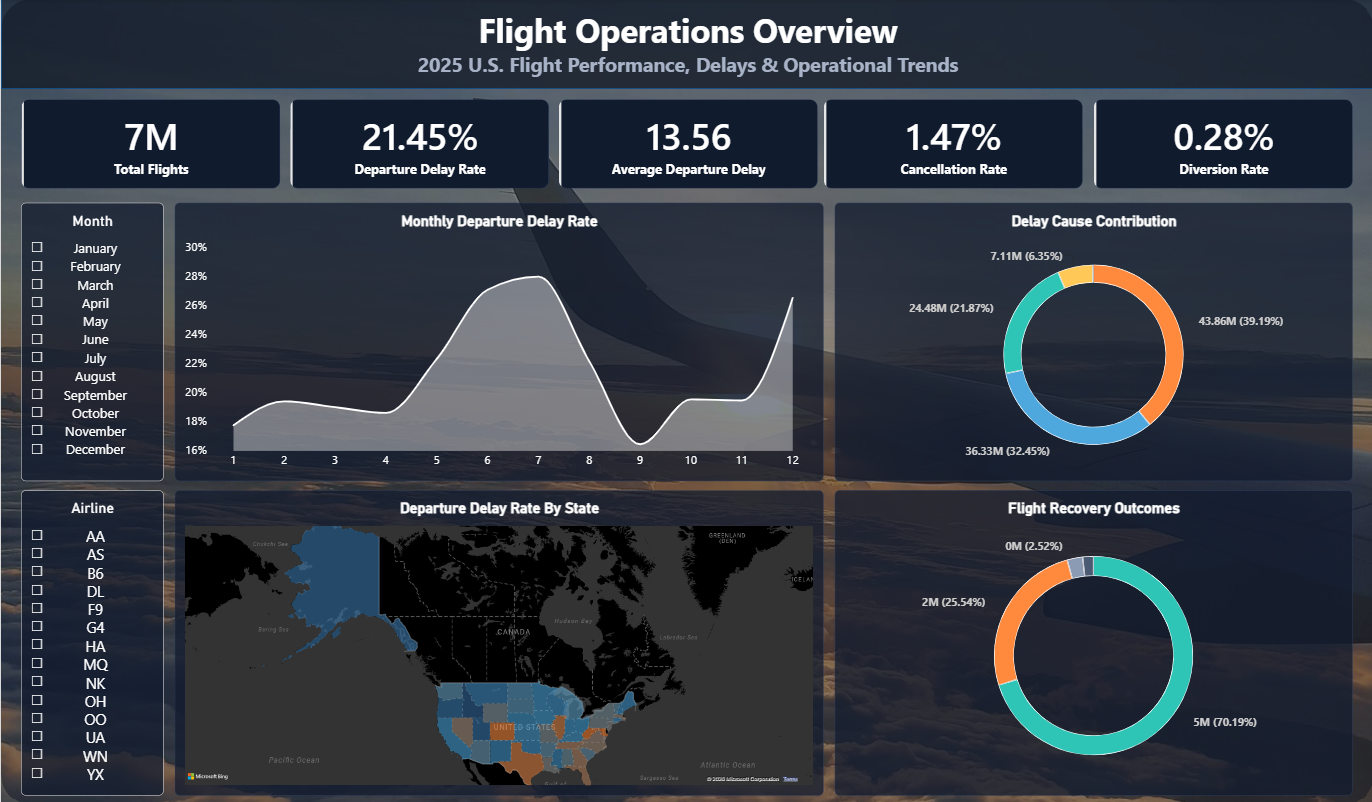

The page's visual inventory and layout, read from the dashboard file:
{"tool":"powerbi","page":{"name":"Flight Operations Overview","canvas":[2250,1320],"ordinal":0},"visuals":[{"type":"shape","box":[0,0,2250,1320.8],"z":500},{"type":"cardVisual","fields":{"Data":["public vw_executive_overview.Total Flights"]},"box":[33.3,164.6,425,147.9],"z":1000},{"type":"shape","box":[0,0,2249.8,147.4],"z":2000},{"type":"textbox","box":[0,14.3,2250,150],"z":3000},{"type":"lineChart","title":"Monthly Departure Delay Rate","fields":{"Category":["public vw_executive_overview.month"],"Y":["public vw_executive_overview.Departure Delay Rate"]},"box":[285.4,333.3,1062.5,456.2],"z":4000},{"type":"donutChart","title":"Delay Cause Contribution","fields":{"Category":["public vw_delay_causes.delay_cause"],"Y":["Sum(public vw_delay_causes.attributed_delay_minutes)"]},"box":[1364.6,333.3,847.9,456.2],"z":5000},{"type":"donutChart","title":"Flight Recovery Outcomes","fields":{"Category":["public vw_recovery_summary.recovery_status"],"Y":["Sum(public vw_recovery_summary.flight_count)"]},"box":[1364.6,804.2,847.9,500],"z":6000},{"type":"filledMap","title":"Departure Delay Rate By State","fields":{"Category":["public vw_executive_overview.Origin State Name"]},"box":[285.4,804.2,1062.5,500],"z":7000},{"type":"listSlicer","title":"Month ","fields":{"Values":["public vw_executive_overview.Month Name"]},"box":[33.3,333.3,233.3,456.2],"z":8000},{"type":"listSlicer","title":"Airline","fields":{"Values":["public vw_executive_overview.airline"]},"box":[33.3,804.2,233.3,500],"z":9000},{"type":"cardVisual","fields":{"Data":["public vw_executive_overview.Departure Delay Rate"]},"box":[472.9,164.6,425,147.9],"z":10000},{"type":"cardVisual","fields":{"Data":["public vw_executive_overview.Average Departure Delay"]},"box":[912.5,164.6,425,147.9],"z":11000},{"type":"cardVisual","fields":{"Data":["public vw_executive_overview.Cancellation Rate"]},"box":[1347.9,164.6,425,147.9],"z":12000},{"type":"cardVisual","fields":{"Data":["public vw_executive_overview.Diversion Rate"]},"box":[1789.6,164.6,425,147.9],"z":13000}]}

Visuals, with their boxes in screenshot pixels (x1, y1, x2, y2), scaled from the page's 2250x1320 canvas onto the 1372x802 screenshot:
shape: x1=0 y1=0 x2=1371 y2=801
cardVisual - public vw_executive_overview.Total Flights: x1=20 y1=100 x2=279 y2=190
shape: x1=0 y1=0 x2=1371 y2=90
textbox: x1=0 y1=9 x2=1371 y2=100
"Monthly Departure Delay Rate" lineChart: x1=174 y1=203 x2=822 y2=480
"Delay Cause Contribution" donutChart: x1=832 y1=203 x2=1349 y2=480
"Flight Recovery Outcomes" donutChart: x1=832 y1=489 x2=1349 y2=792
"Departure Delay Rate By State" filledMap: x1=174 y1=489 x2=822 y2=792
"Month " listSlicer: x1=20 y1=203 x2=163 y2=480
"Airline" listSlicer: x1=20 y1=489 x2=163 y2=792
cardVisual - public vw_executive_overview.Departure Delay Rate: x1=288 y1=100 x2=548 y2=190
cardVisual - public vw_executive_overview.Average Departure Delay: x1=556 y1=100 x2=816 y2=190
cardVisual - public vw_executive_overview.Cancellation Rate: x1=822 y1=100 x2=1081 y2=190
cardVisual - public vw_executive_overview.Diversion Rate: x1=1091 y1=100 x2=1350 y2=190
